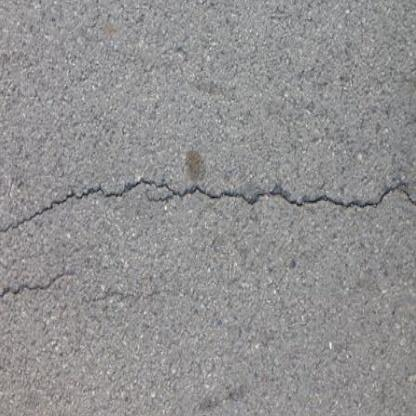Cracks: (0, 155, 416, 260), (0, 264, 105, 316)
